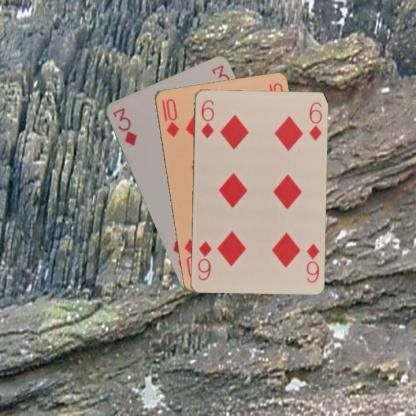10d: (159, 95, 180, 139)
3d: (110, 105, 138, 147)
6d: (303, 240, 321, 284), (198, 97, 216, 140)
